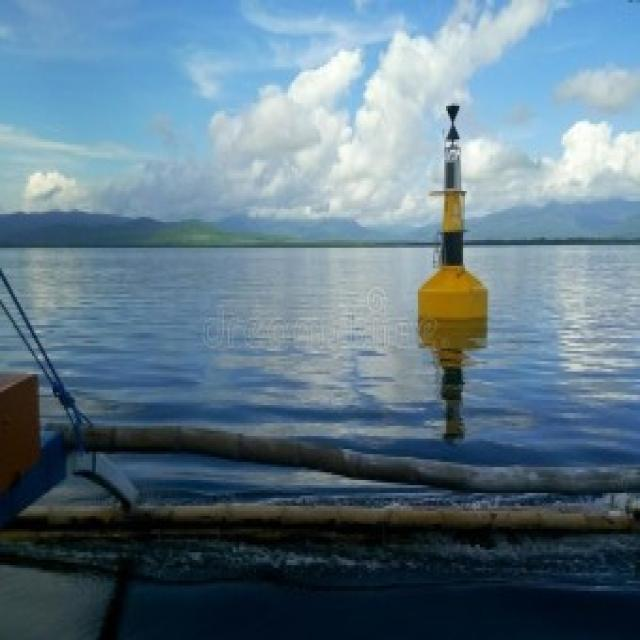2.2 cardinal mark -W-: (408, 87, 495, 332)
